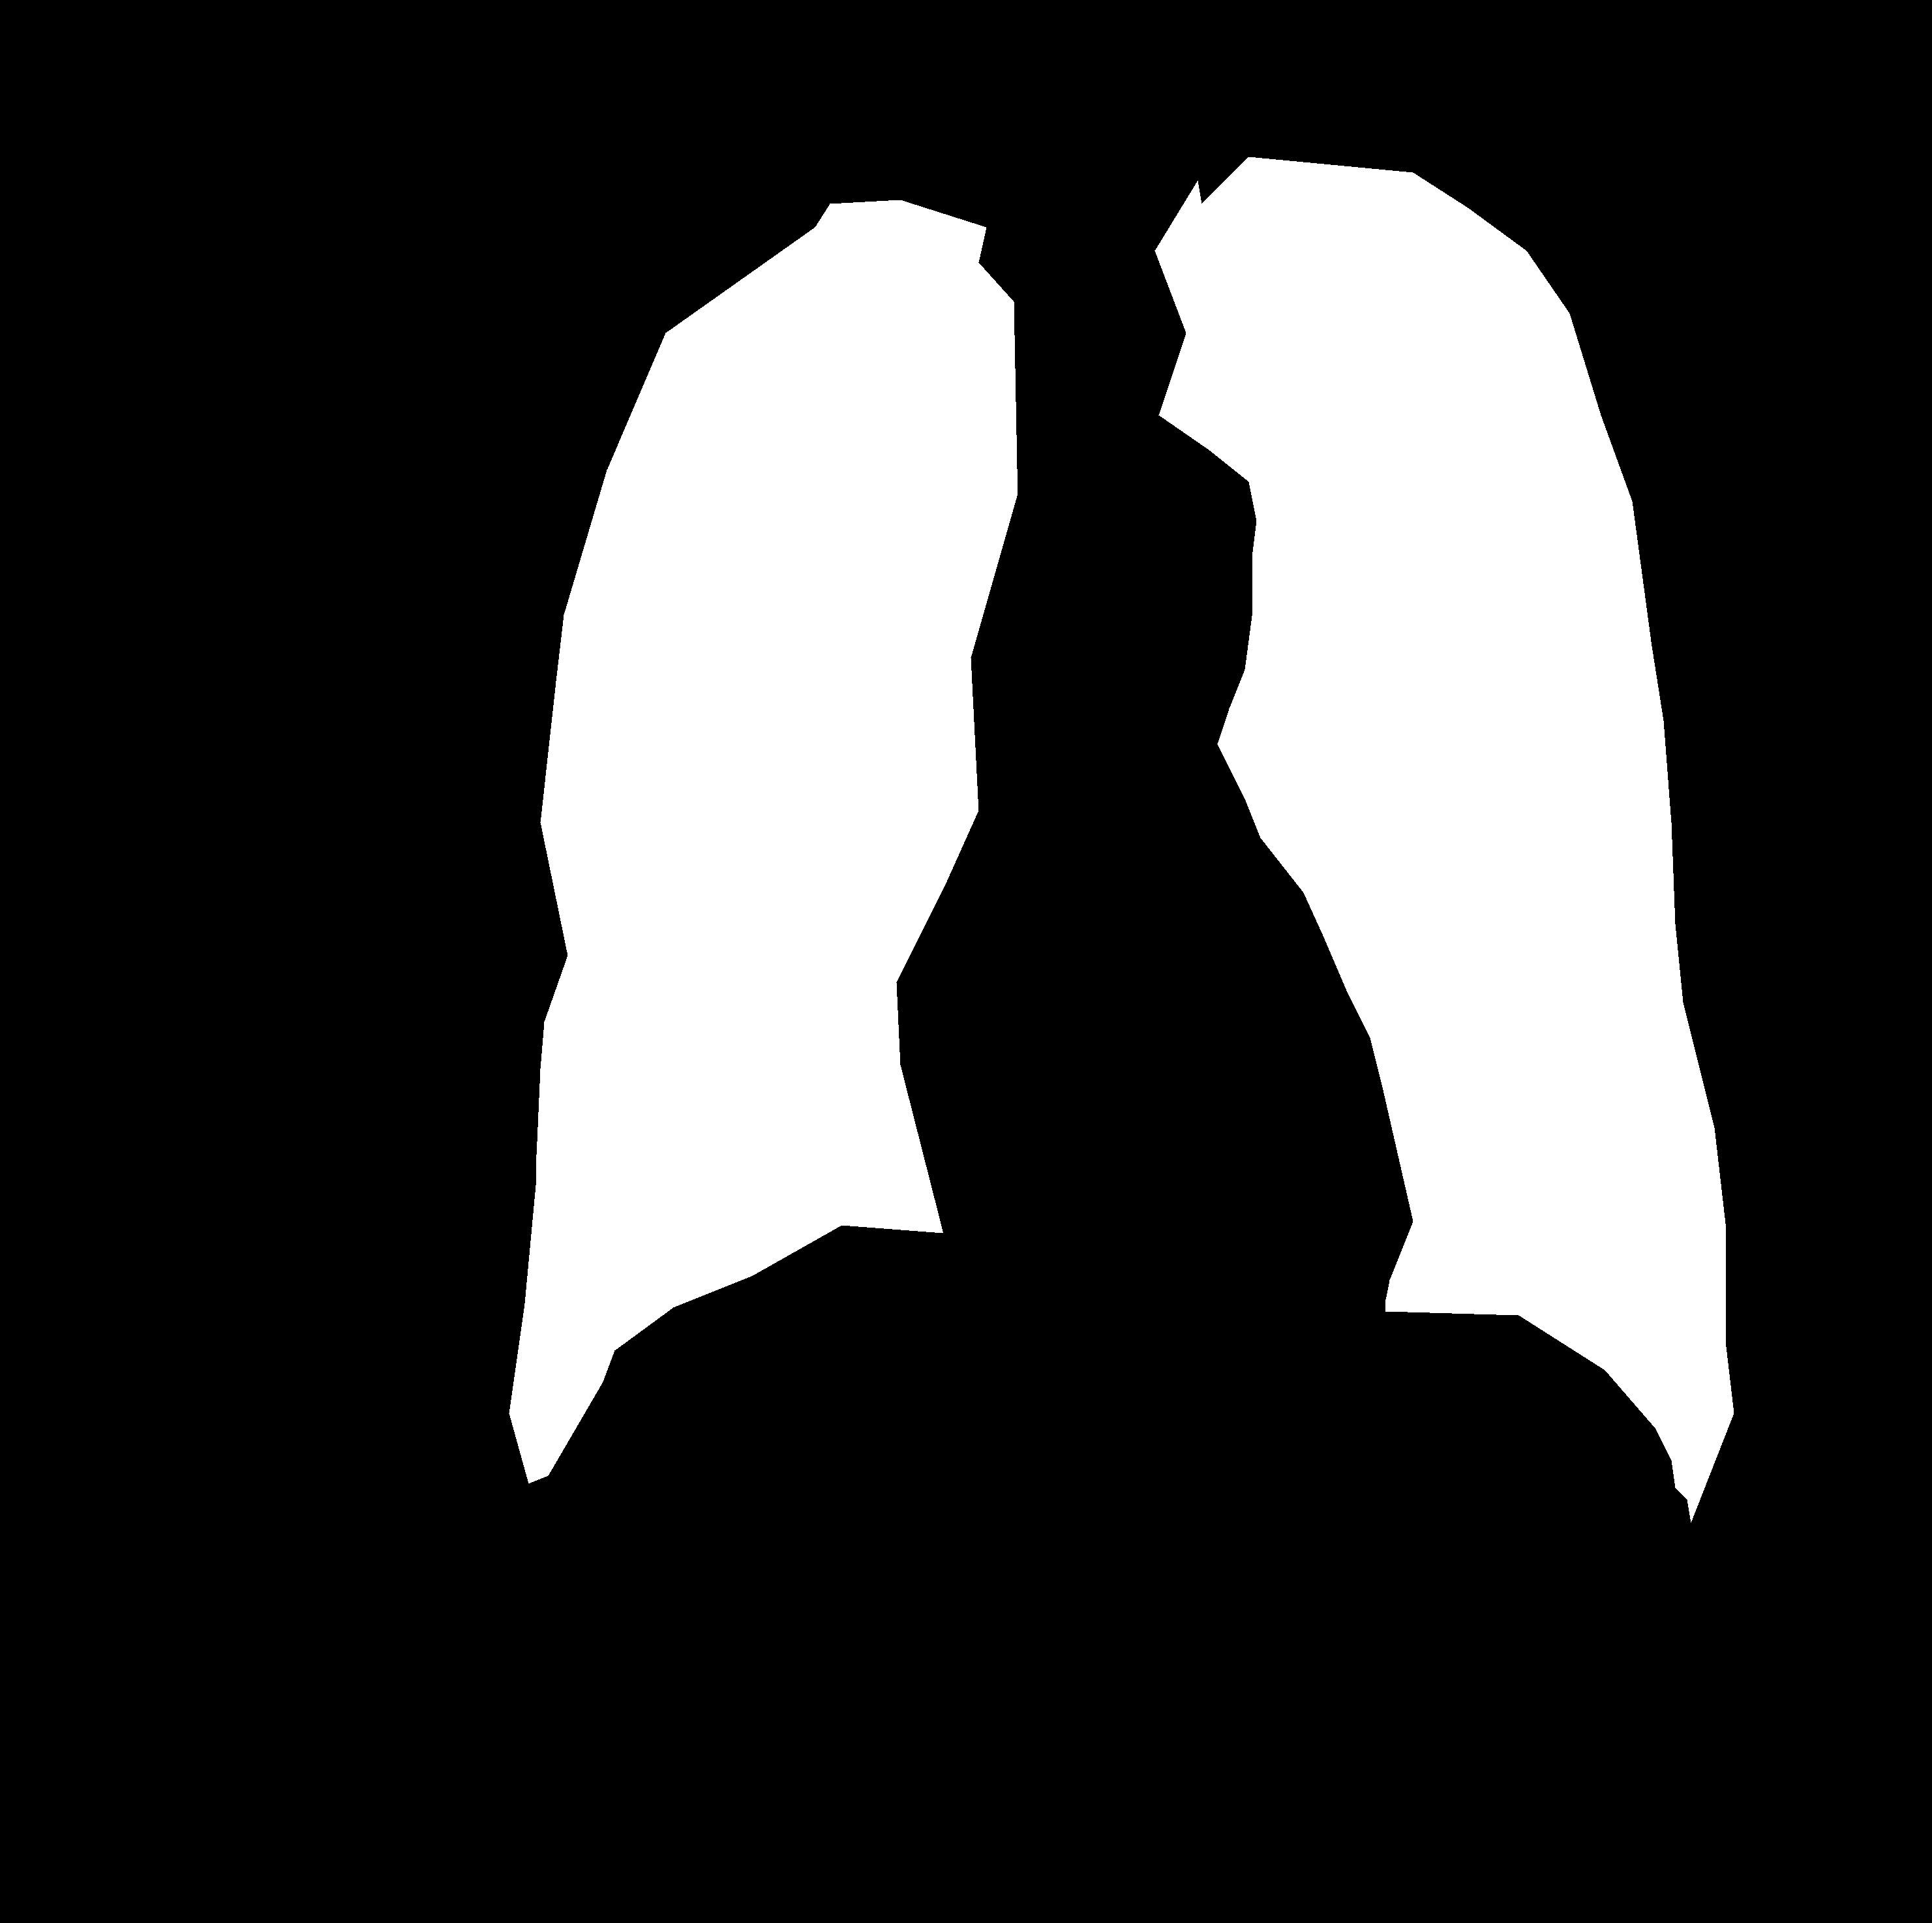heart: (893, 863, 1409, 1326)
left_lung: (509, 201, 1016, 1483)
right_lung: (1155, 157, 1733, 1523)
